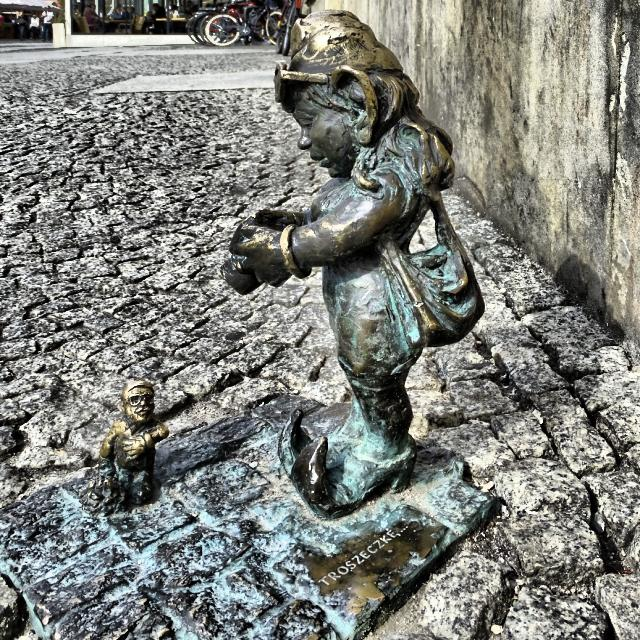Troszka i Adoratorek: (0, 11, 500, 640)
